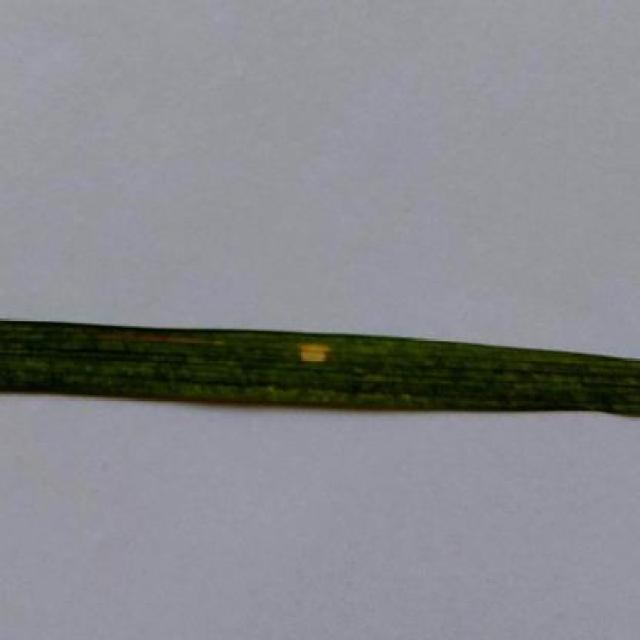Bacterial_Leaf_Blight: (288, 322, 342, 367)
